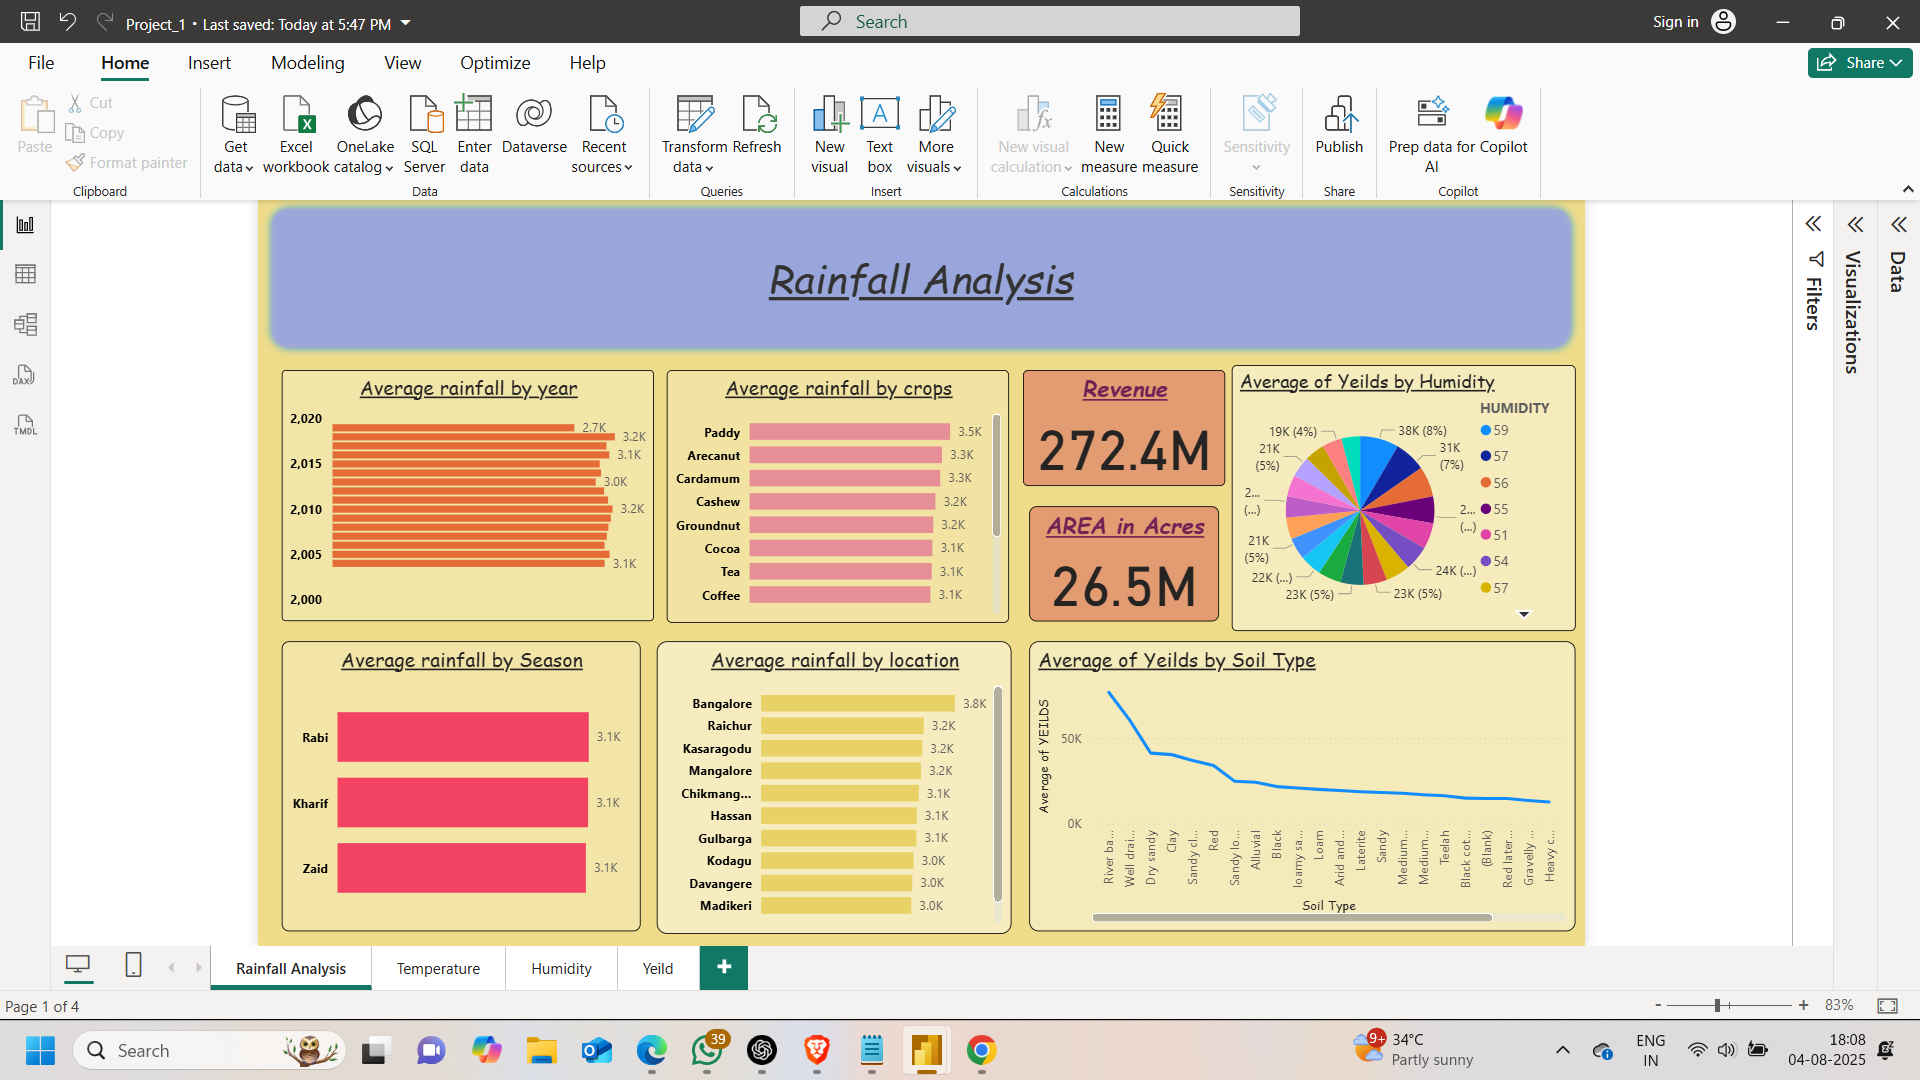

Layout of this report page (visuals, bound fields, positions):
{"tool":"powerbi","page":{"name":"Rainfall Analysis","canvas":[1280,720],"ordinal":0},"visuals":[{"type":"shape","box":[4.8,0,1270.4,150.8],"z":0},{"type":"barChart","title":"Average rainfall by year","fields":{"Category":["AGRICULTURE.YEAR"],"Y":["Avg(AGRICULTURE.RAINFALL)"]},"box":[23.2,163.9,359.5,242.1],"z":1000},{"type":"barChart","title":"Average rainfall by Season","fields":{"Y":["Avg(AGRICULTURE.RAINFALL)"],"Category":["AGRICULTURE.SEASON"]},"box":[22.9,425.9,346.2,279.9],"z":2000},{"type":"barChart","title":"Average rainfall by crops","fields":{"Y":["Avg(AGRICULTURE.RAINFALL)"],"Category":["AGRICULTURE.CROPS"]},"box":[394.5,164.1,330.6,243.7],"z":3000},{"type":"barChart","title":"Average rainfall by location","fields":{"Y":["Avg(AGRICULTURE.RAINFALL)"],"Category":["AGRICULTURE.LOCATION"]},"box":[384.9,425.9,342.6,282.3],"z":4000},{"type":"card","title":"Revenue","fields":{"Values":["Sum(AGRICULTURE.PRICE)"]},"box":[738.3,164.1,195.4,112.2],"z":5000},{"type":"pieChart","title":"Average of Yeilds by Humidity","fields":{"Category":["AGRICULTURE.HUMIDITY"],"Y":["Avg(AGRICULTURE.YEILDS)"]},"box":[939.8,159.3,331.8,257],"z":6000},{"type":"lineChart","title":"Average of Yeilds  by Soil Type","fields":{"Category":["AGRICULTURE.SOIL_TYPE"],"Y":["Avg(AGRICULTURE.YEILDS)"]},"box":[744.4,425.9,527.2,279.9],"z":7000},{"type":"card","title":"AREA in Acres","fields":{"Values":["Sum(AGRICULTURE.AREA)"]},"box":[744.4,295.6,183.4,111],"z":7001}]}

Visuals, with their boxes on the page's 1280x720 design canvas (x1, y1, x2, y2). These are canvas units, not pixel positions in the 1920x1080 screenshot, which may show the page scaled, cropped or inside an application window:
shape: (5,0,1275,151)
"Average rainfall by year" barChart: (23,164,383,406)
"Average rainfall by Season" barChart: (23,426,369,706)
"Average rainfall by crops" barChart: (394,164,725,408)
"Average rainfall by location" barChart: (385,426,728,708)
"Revenue" card: (738,164,934,276)
"Average of Yeilds by Humidity" pieChart: (940,159,1272,416)
"Average of Yeilds  by Soil Type" lineChart: (744,426,1272,706)
"AREA in Acres" card: (744,296,928,407)
